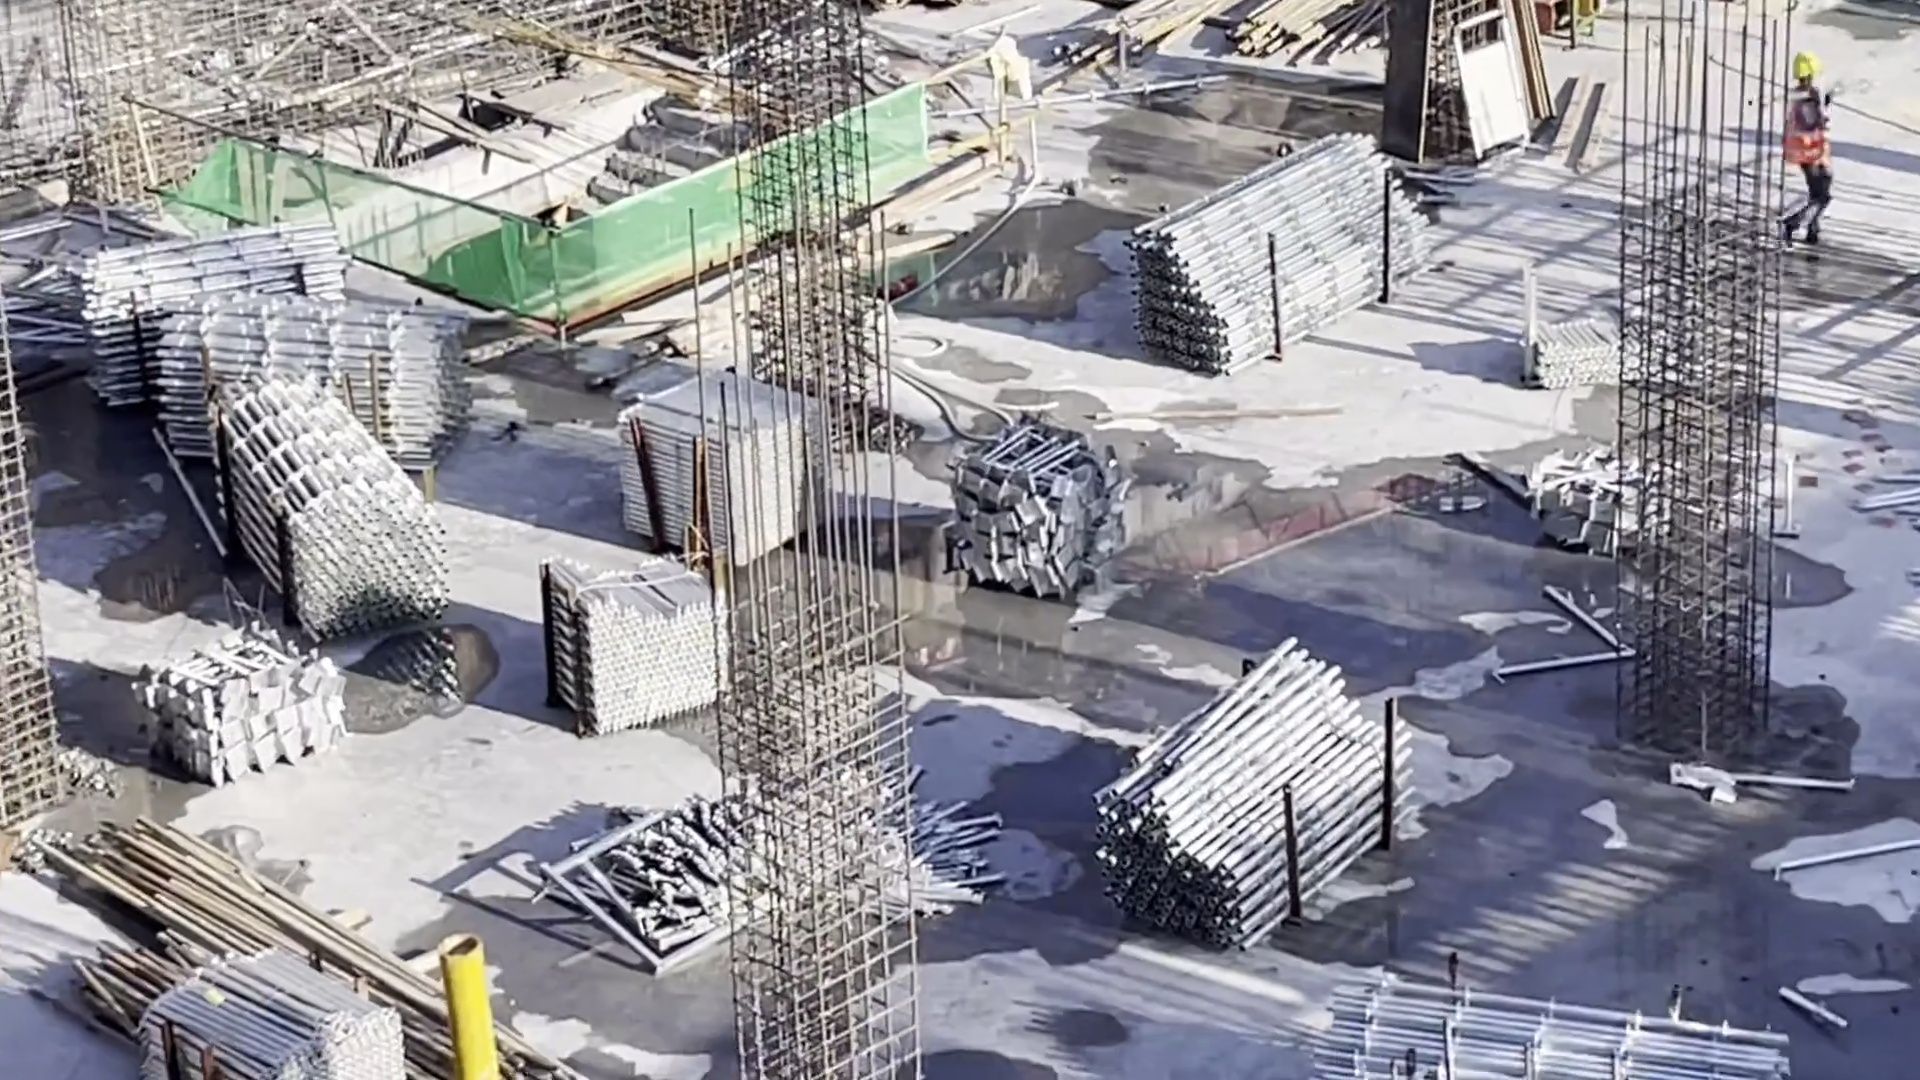helmet: (1792, 54, 1822, 77)
person: (1778, 51, 1837, 249)
scaffold: (609, 760, 959, 933), (1137, 680, 1383, 927), (1341, 945, 1769, 1080), (1156, 149, 1423, 337), (75, 233, 351, 398), (236, 392, 408, 621), (616, 369, 811, 551), (150, 947, 389, 1080), (552, 548, 714, 736), (177, 311, 440, 420), (1520, 301, 1662, 390)
vest: (1784, 95, 1834, 161)
